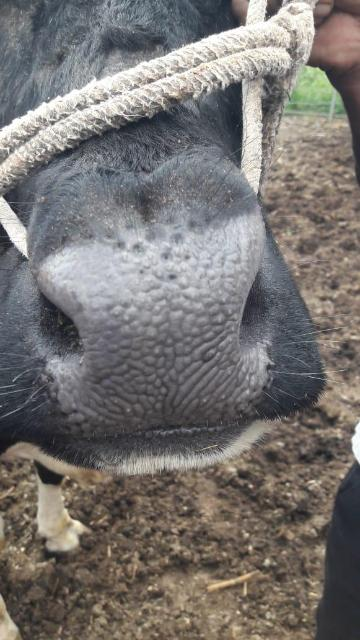Muzzle: (26, 227, 274, 438)
